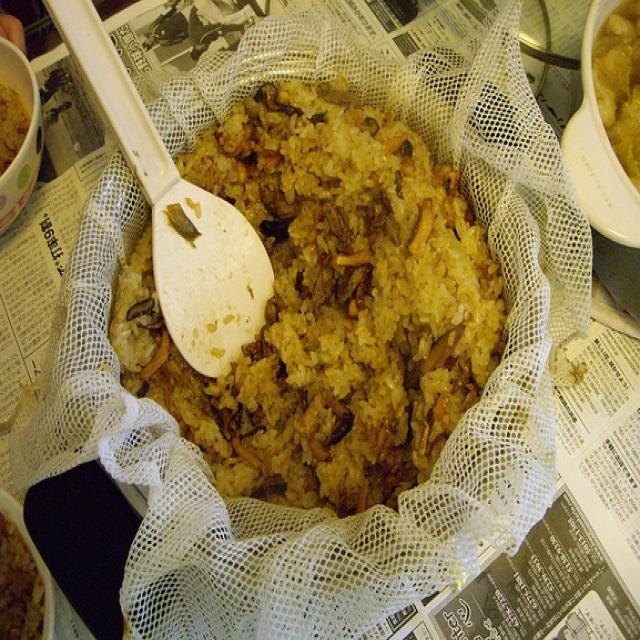米饭主食: (78, 61, 558, 551)
